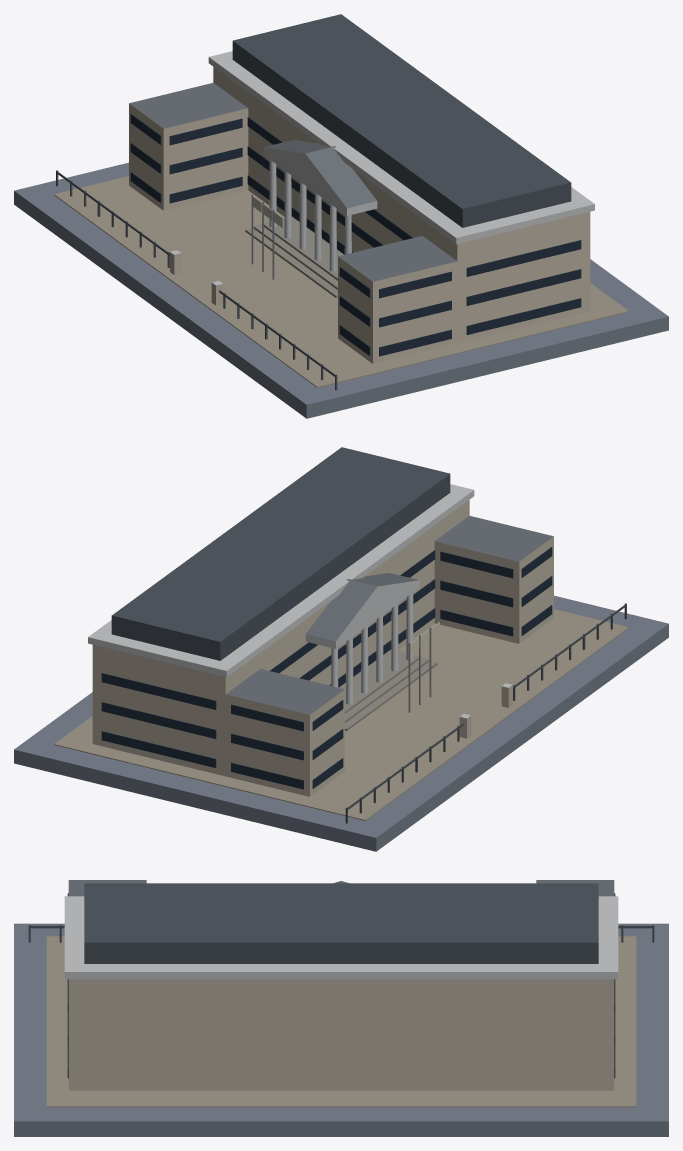
Rendered from government_office.glb.
3 views of the same model, one above another, from view 1: azimuth 30°, elevation 25°; view 2: azimuth 150°, elevation 25°; view 3: azimuth 270°, elevation 25° (orthographic). The views are drawn at different scales.
Visible parts, largest first — view 1: government_office; view 2: government_office; view 3: government_office.
Part boxes in pixels (<box>): government_office: <box>14,14,668,418</box>; government_office: <box>14,447,668,851</box>; government_office: <box>14,880,668,1136</box>.
Size of the model in its own units: 60 by 22.35 by 84.
